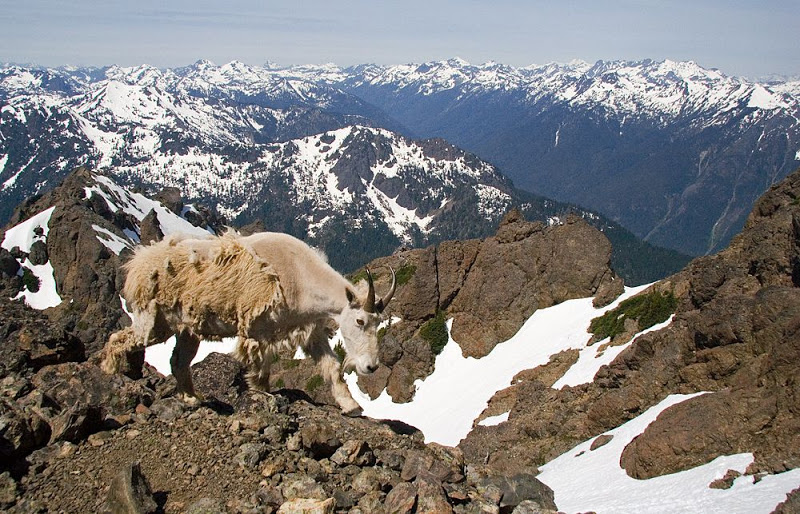goat: (104, 228, 396, 406)
